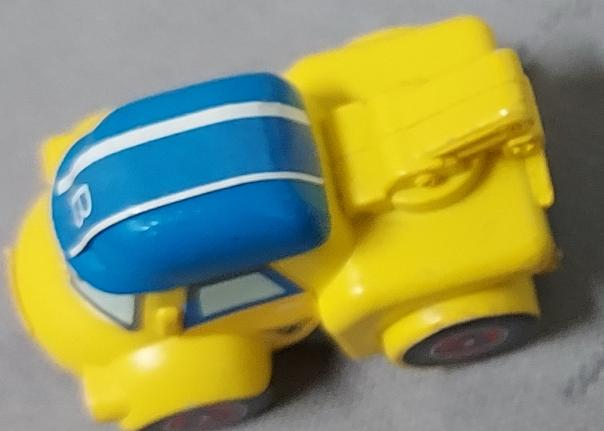car: (0, 1, 604, 431)
